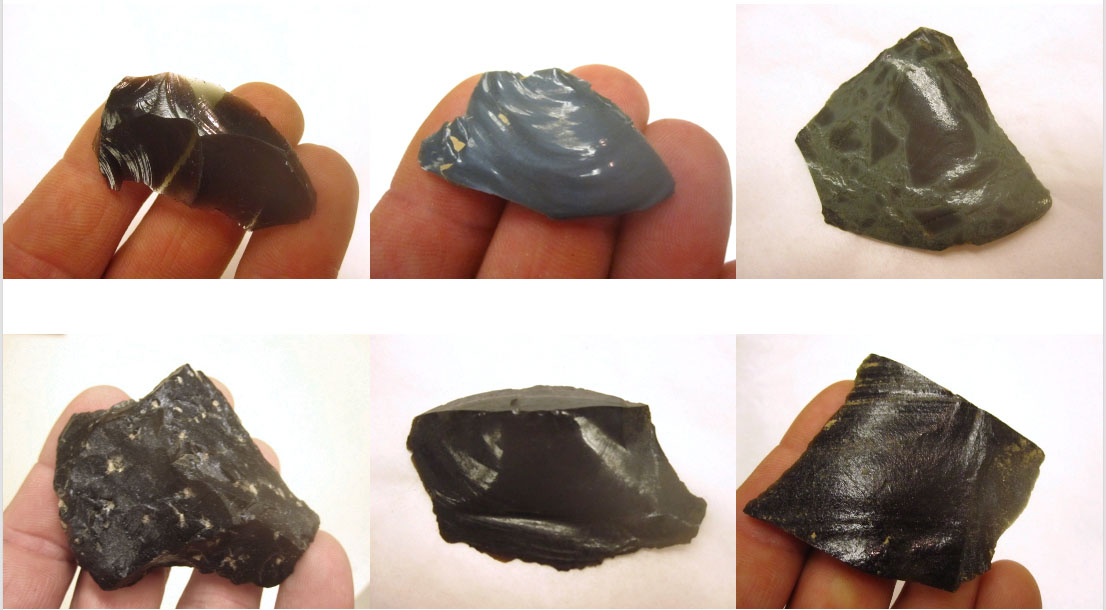Obsidian: (745, 351, 1044, 590), (797, 30, 1052, 252), (410, 383, 708, 571), (55, 373, 319, 582), (420, 71, 677, 222), (93, 72, 328, 233)
